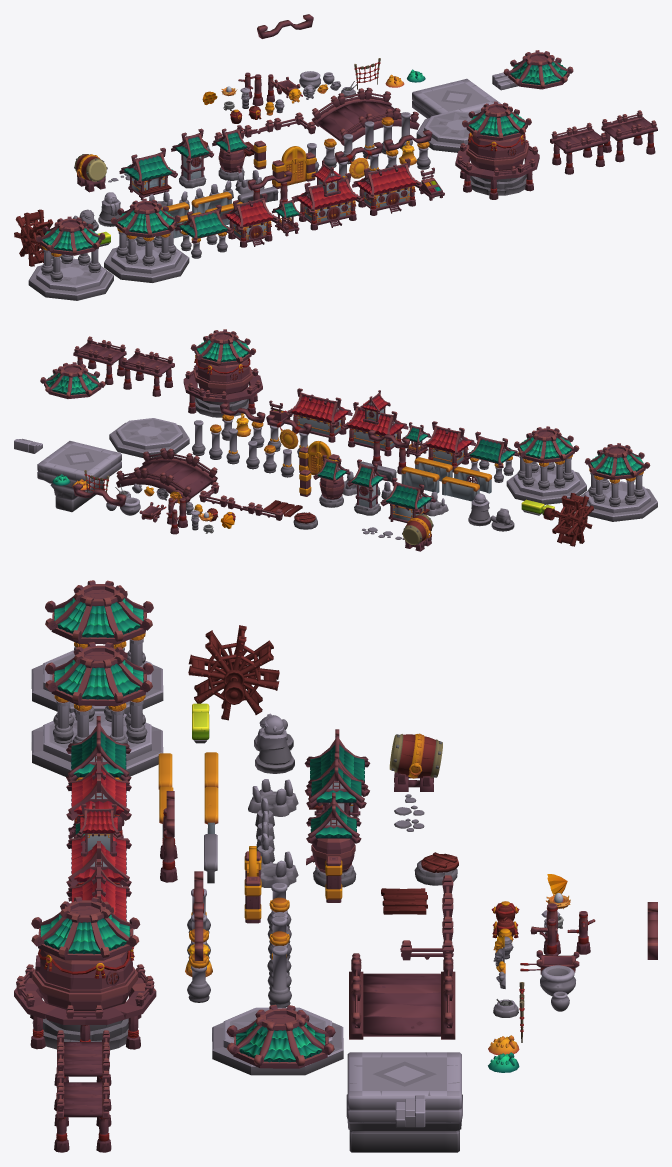
Rendered from VillagePack.glb.
3 renders of one model, top to bottom at view 1: azimuth 30°, elevation 25°; view 2: azimuth 150°, elevation 25°; view 3: azimuth 270°, elevation 25°, orthographic. The views are drawn at different scales.
Visible parts, largest first — view 1: granary_big, altar2, altar, bridge, building_2, building_1, bridge_stone, building_3, roof, shop, shrine_2, bridge2 (+15 smaller); view 2: granary_big, altar2, altar, bridge_stone, bridge, platform, building_2, building_1, roof, wheel, building_3, shrine_2 (+24 smaller); view 3: granary_big, altar2, bridge_stone, bridge, altar, roof, wheel, building_2, granary, bridge3, platform, drum (+18 smaller).
Boxes of the visible parts, x1,y1,x2,y2 form: granary_big: [455, 101, 539, 199]; altar2: [104, 198, 189, 282]; altar: [28, 216, 113, 300]; bridge: [311, 87, 419, 145]; building_2: [292, 160, 362, 230]; building_1: [352, 158, 422, 215]; bridge_stone: [412, 78, 500, 118]; building_3: [221, 193, 279, 247]; roof: [503, 50, 573, 89]; shop: [119, 148, 177, 200]; shrine_2: [175, 204, 233, 258]; bridge2: [550, 122, 607, 174]; granary_big: [183, 329, 262, 421]; altar2: [506, 426, 586, 504]; altar: [580, 443, 657, 521]; bridge_stone: [37, 441, 121, 512]; bridge: [116, 448, 217, 503]; platform: [109, 418, 189, 457]; building_2: [342, 390, 408, 456]; building_1: [286, 388, 352, 442]; roof: [40, 362, 105, 398]; wheel: [543, 493, 593, 546]; building_3: [421, 421, 475, 472]; shrine_2: [464, 431, 518, 482]; granary_big: [14, 896, 156, 1050]; altar2: [31, 642, 163, 776]; bridge_stone: [346, 1052, 462, 1152]; bridge: [349, 953, 455, 1039]; altar: [31, 580, 163, 714]; roof: [226, 1004, 335, 1068]; wheel: [188, 625, 279, 720]; building_2: [66, 804, 131, 901]; granary: [306, 792, 361, 887]; bridge3: [54, 1070, 111, 1152]; platform: [212, 1007, 343, 1075]; drum: [389, 733, 442, 791].
Size of the model in its own units: 53.22 by 9.83 by 29.48.
Materials: 1 (1 with a texture image).
